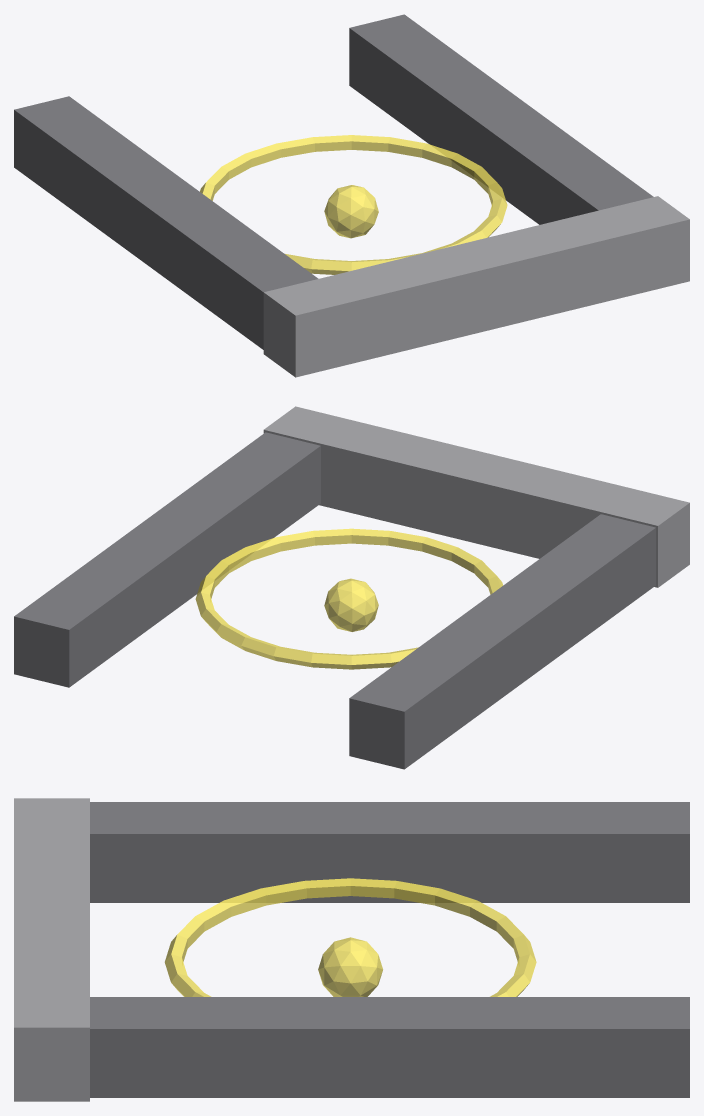
Rendered from undead_altar_gate.glb.
The picture shows the model from 3 angles, top to bottom: view 1: azimuth 30°, elevation 25°; view 2: azimuth 150°, elevation 25°; view 3: azimuth 270°, elevation 25°; orthographic projection. The views are drawn at different scales.
Visible parts, largest first — view 1: lintel, pillar_left, pillar_right, energy_ring, core_light; view 2: pillar_left, pillar_right, lintel, energy_ring, core_light; view 3: pillar_right, pillar_left, lintel, energy_ring, core_light.
Part boxes in pixels (bbox=[...]): lintel: bbox=[263, 196, 689, 377]; pillar_left: bbox=[14, 96, 318, 349]; pillar_right: bbox=[349, 14, 653, 224]; energy_ring: bbox=[200, 135, 507, 274]; core_light: bbox=[324, 185, 378, 238]; pillar_left: bbox=[349, 514, 655, 769]; pillar_right: bbox=[14, 432, 320, 687]; lintel: bbox=[263, 406, 689, 587]; energy_ring: bbox=[195, 528, 503, 669]; core_light: bbox=[324, 578, 378, 631]; pillar_right: bbox=[90, 997, 689, 1097]; pillar_left: bbox=[90, 802, 689, 902]; lintel: bbox=[14, 798, 89, 1101]; energy_ring: bbox=[164, 878, 536, 996]; core_light: bbox=[318, 937, 382, 996].
Size of the model in its own units: 2 by 0.35 by 2.49.
